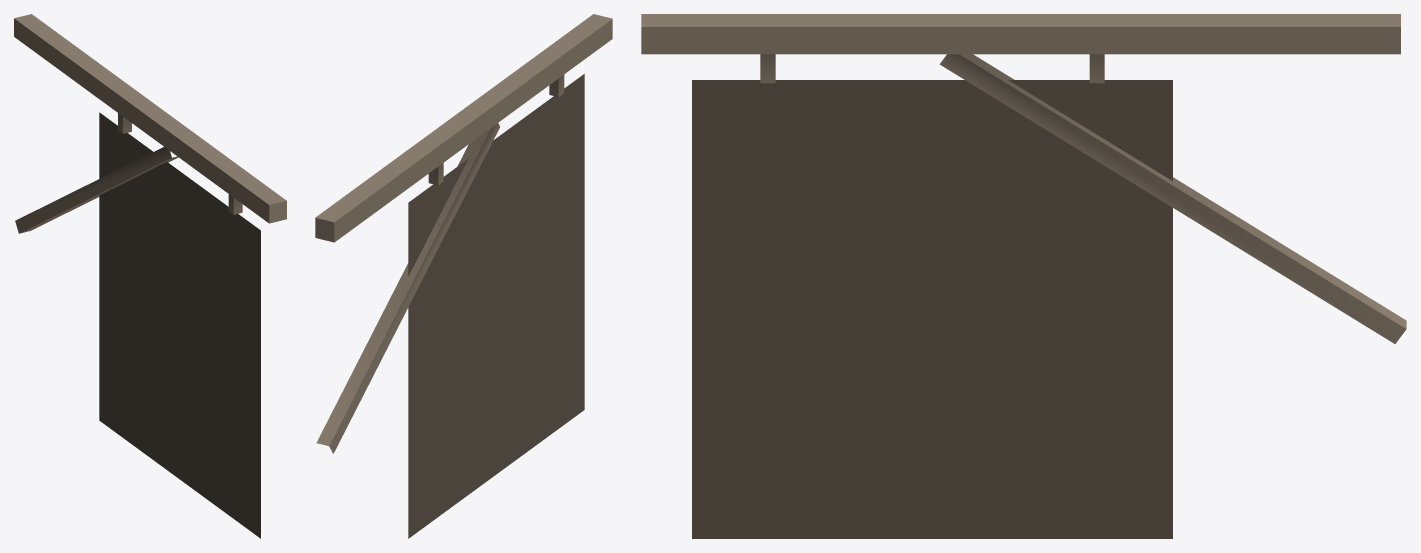
Rendered from sg_sign.glb.
3 views of the same model, side by side, from view 1: azimuth 30°, elevation 25°; view 2: azimuth 150°, elevation 25°; view 3: azimuth 270°, elevation 25° (orthographic). The views are drawn at different scales.
Parts seen in each view (by area): view 1: sg_sign_SG_Joinery; view 2: sg_sign_SG_Joinery; view 3: sg_sign_SG_Joinery.
Boxes of the visible parts, box(x1,y1,x2,y2) form: sg_sign_SG_Joinery: box(14, 14, 286, 538); sg_sign_SG_Joinery: box(315, 14, 612, 538); sg_sign_SG_Joinery: box(641, 14, 1406, 538).
Size of the model in its own units: 0.06 by 1.13 by 1.51.
